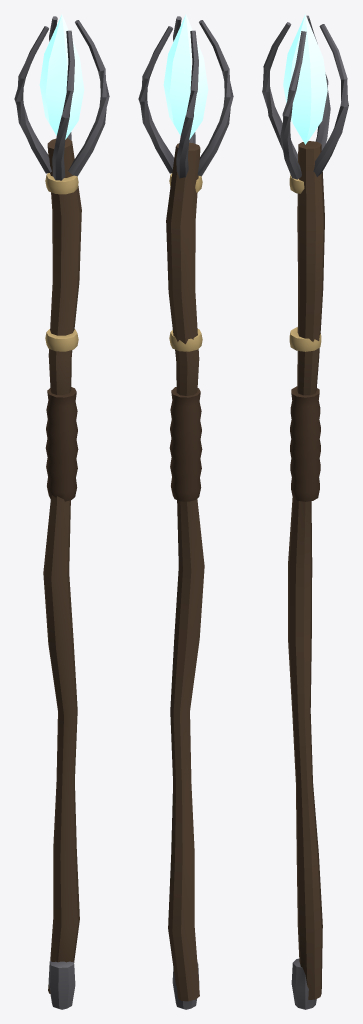
File: staff.glb
3 renders of one model, left to right at view 1: azimuth 30°, elevation 25°; view 2: azimuth 210°, elevation 25°; view 3: azimuth 270°, elevation 25°, orthographic.
Parts seen in each view (by area): view 1: staff; view 2: staff; view 3: staff.
Boxes of the visible parts, x1,y1,x2,y2 form: staff: (14,14,109,1009); staff: (138,14,233,1009); staff: (262,14,348,1009).
Bounding box in the file's own units: 0.1502 × 1.9 × 0.1502.
